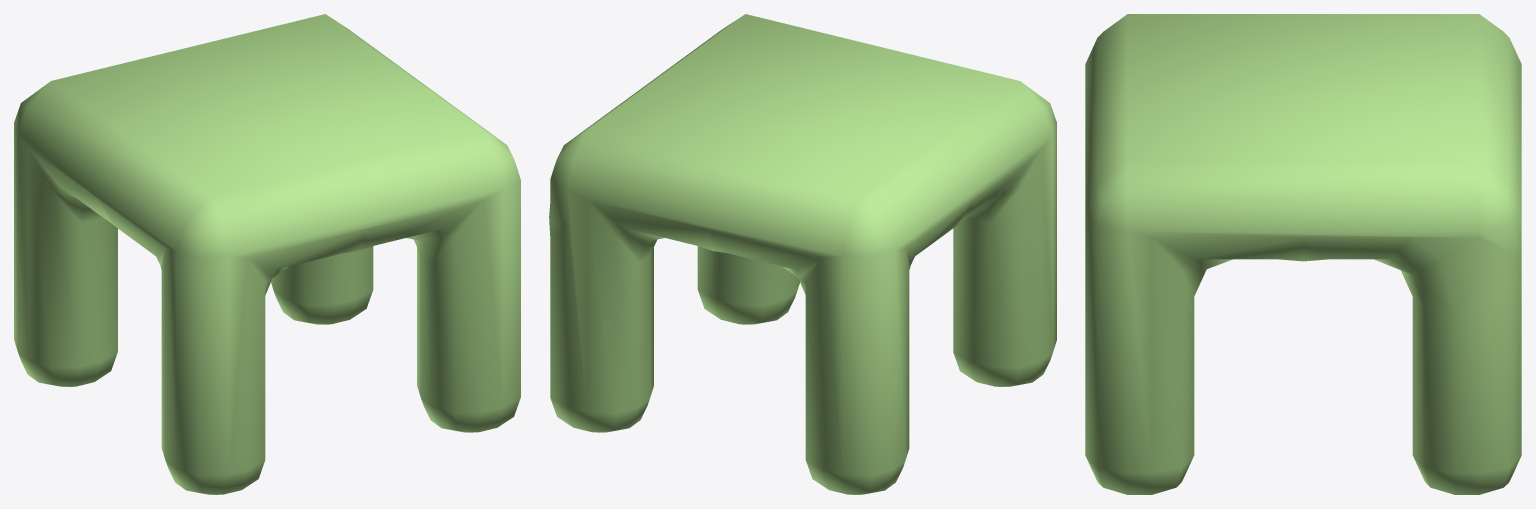
File: kUCUKmASA.fbx
3 renders of one model, left to right at view 1: azimuth 30°, elevation 25°; view 2: azimuth 150°, elevation 25°; view 3: azimuth 270°, elevation 25°, orthographic. The views are drawn at different scales.
Visible parts, largest first — view 1: kUCUKmASA; view 2: kUCUKmASA; view 3: kUCUKmASA.
Boxes of the visible parts, x1=… form: kUCUKmASA: x1=14, y1=14, x2=520, y2=494; kUCUKmASA: x1=549, y1=14, x2=1056, y2=494; kUCUKmASA: x1=1085, y1=14, x2=1521, y2=494.
Bounding box in the file's own units: 78.94 × 66.01 × 78.94.
